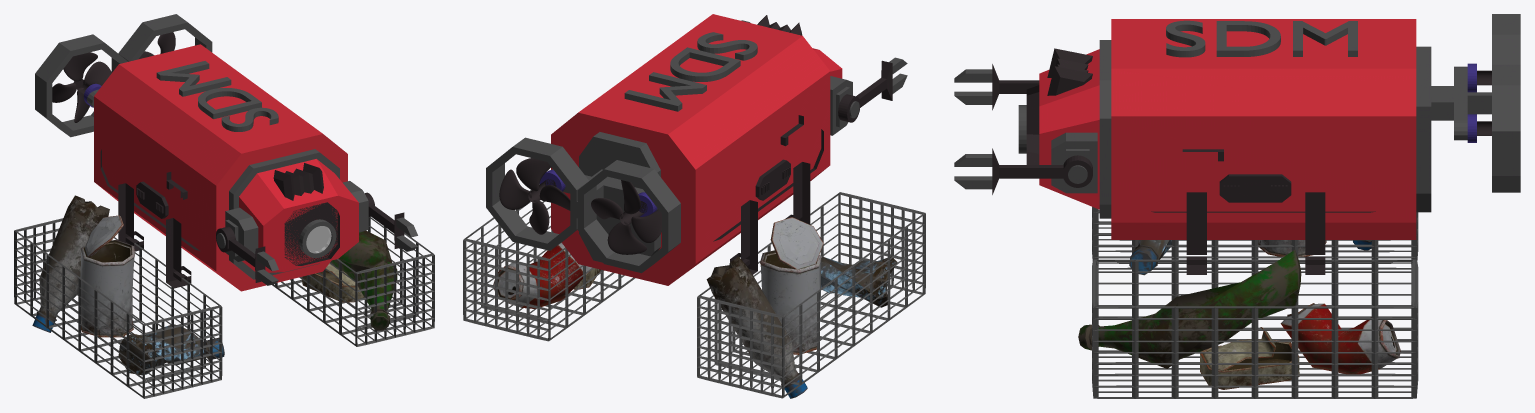
File: collector_manual_with_both.glb
3 views of the same model, side by side, from view 1: azimuth 30°, elevation 25°; view 2: azimuth 150°, elevation 25°; view 3: azimuth 270°, elevation 25° (orthographic). The views are drawn at different scales.
Visible parts, largest first — view 1: main_body, Plastic_Bottle_01_GEO, Can_02_GEO, camera_lens; view 2: main_body, Can_02_GEO, Plastic_Bottle_01_GEO; view 3: main_body, Plastic_Bottle_01_GEO, Can_02_GEO.
Part boxes in pixels (x1=…): main_body: x1=14, y1=14, x2=434, y2=398; Plastic_Bottle_01_GEO: x1=32, y1=195, x2=397, y2=375; Can_02_GEO: x1=80, y1=215, x2=363, y2=337; camera_lens: x1=306, y1=226, x2=331, y2=253; main_body: x1=463, y1=14, x2=925, y2=398; Can_02_GEO: x1=493, y1=217, x2=823, y2=354; Plastic_Bottle_01_GEO: x1=706, y1=256, x2=897, y2=398; main_body: x1=954, y1=14, x2=1520, y2=398; Plastic_Bottle_01_GEO: x1=1078, y1=240, x2=1371, y2=368; Can_02_GEO: x1=1200, y1=240, x2=1400, y2=389.
Bounding box in the file's own units: 4.09 × 3.17 × 5.53.
4 materials, 4 textured.
